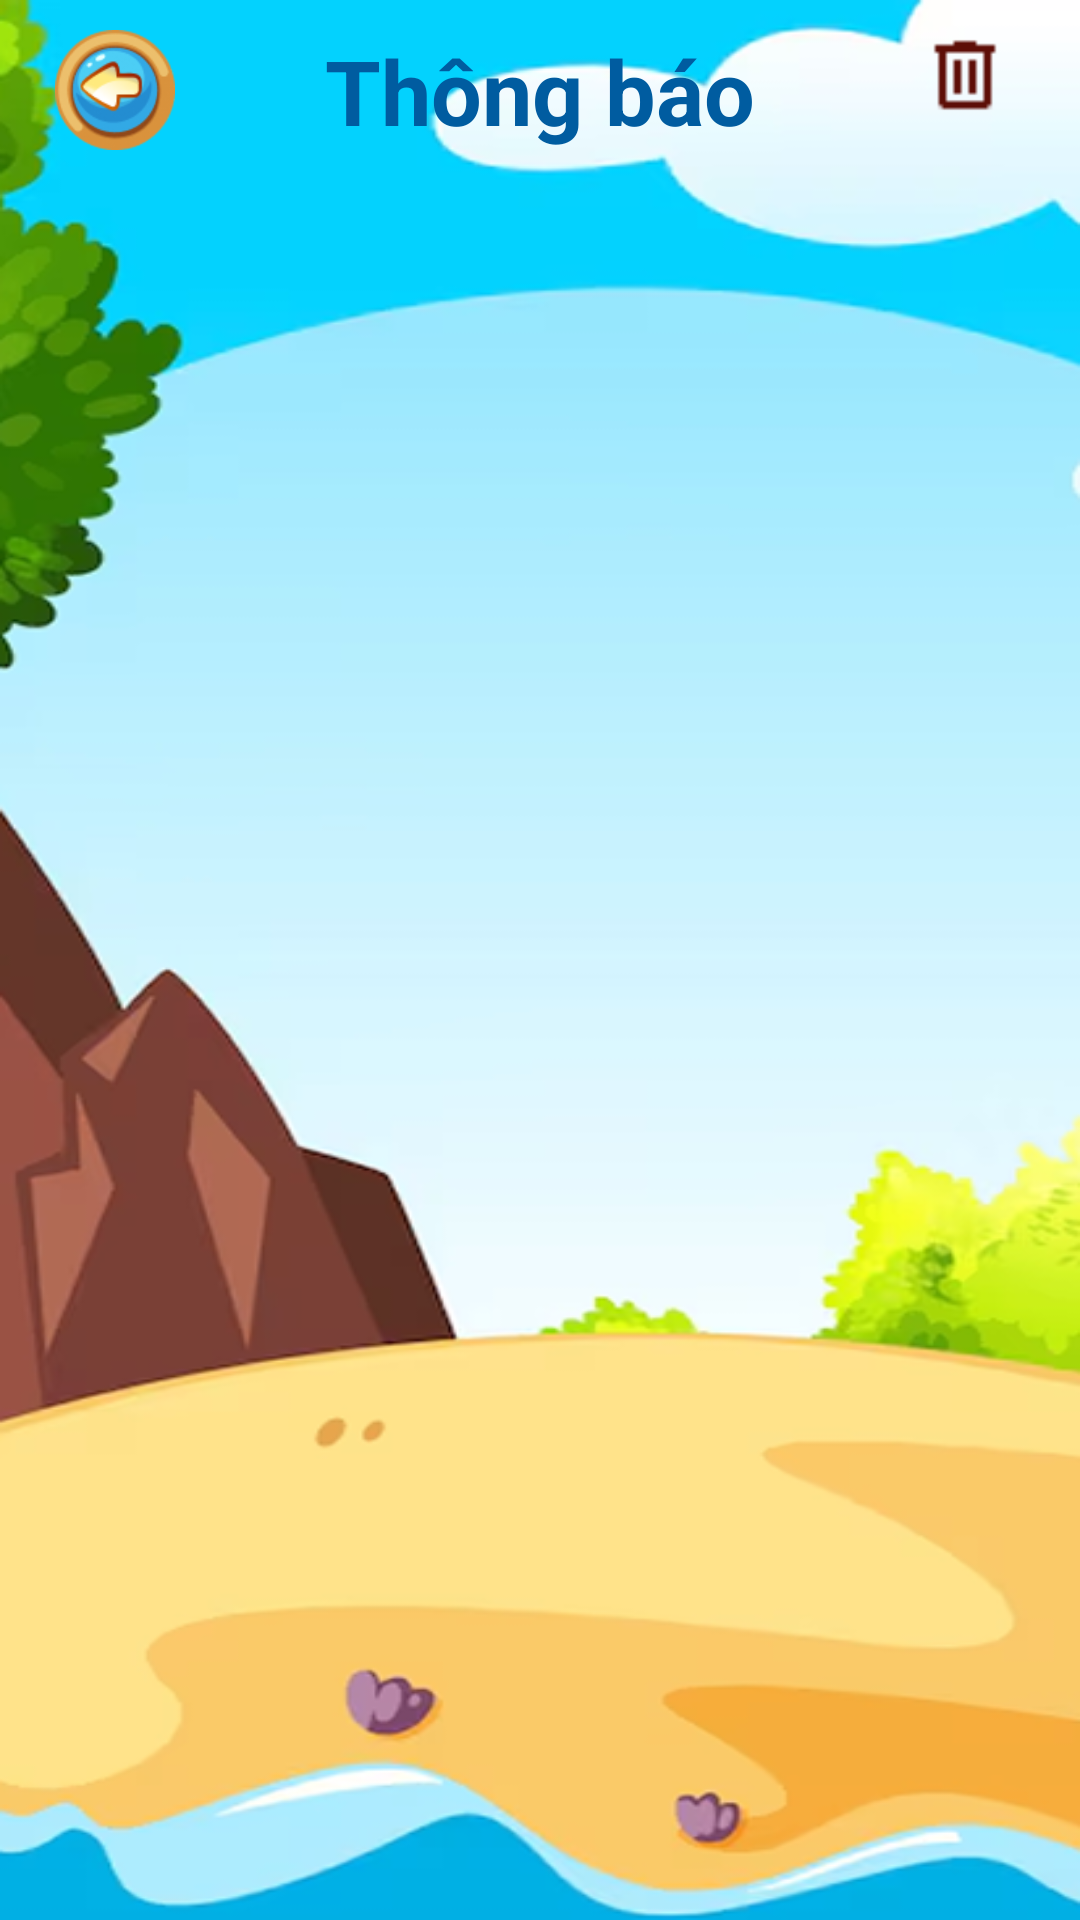

Named icons in this screenshot (1080*1920) and their centers, (x=x, y=y):
delete: (x=965, y=75)
